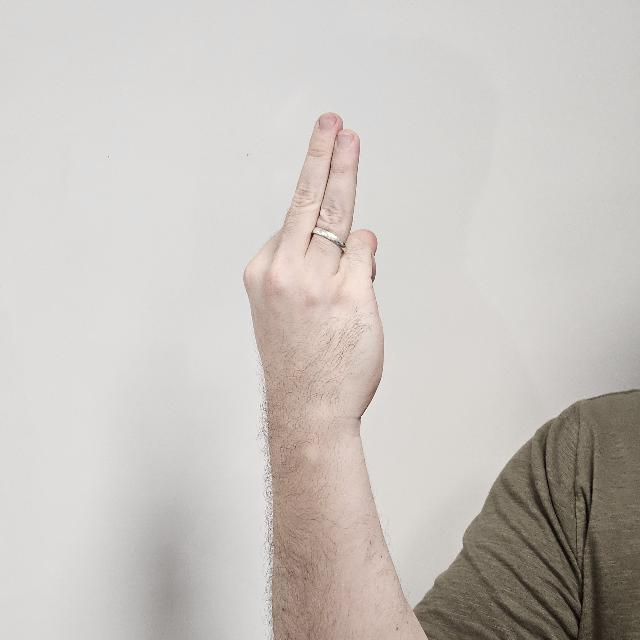R: (242, 112, 382, 470)
